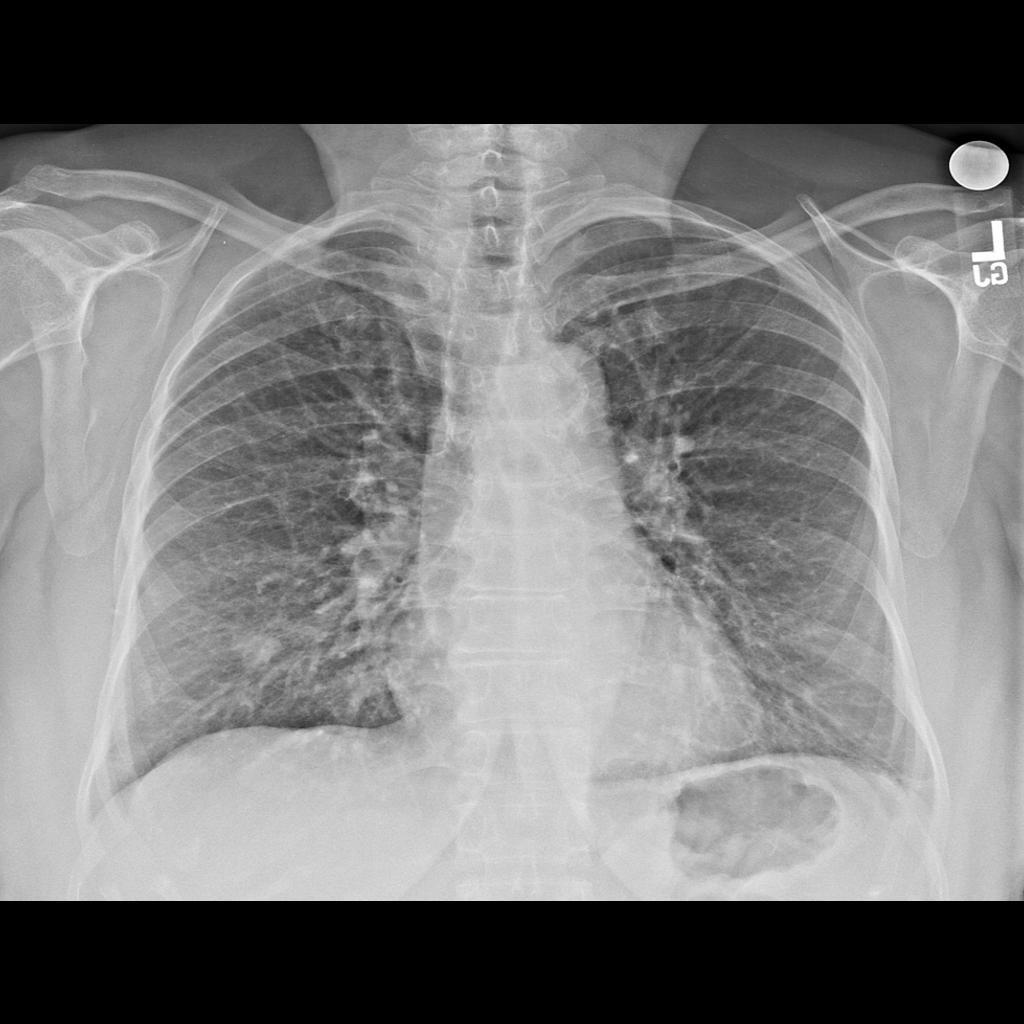Nodule: (242, 632, 285, 672)
